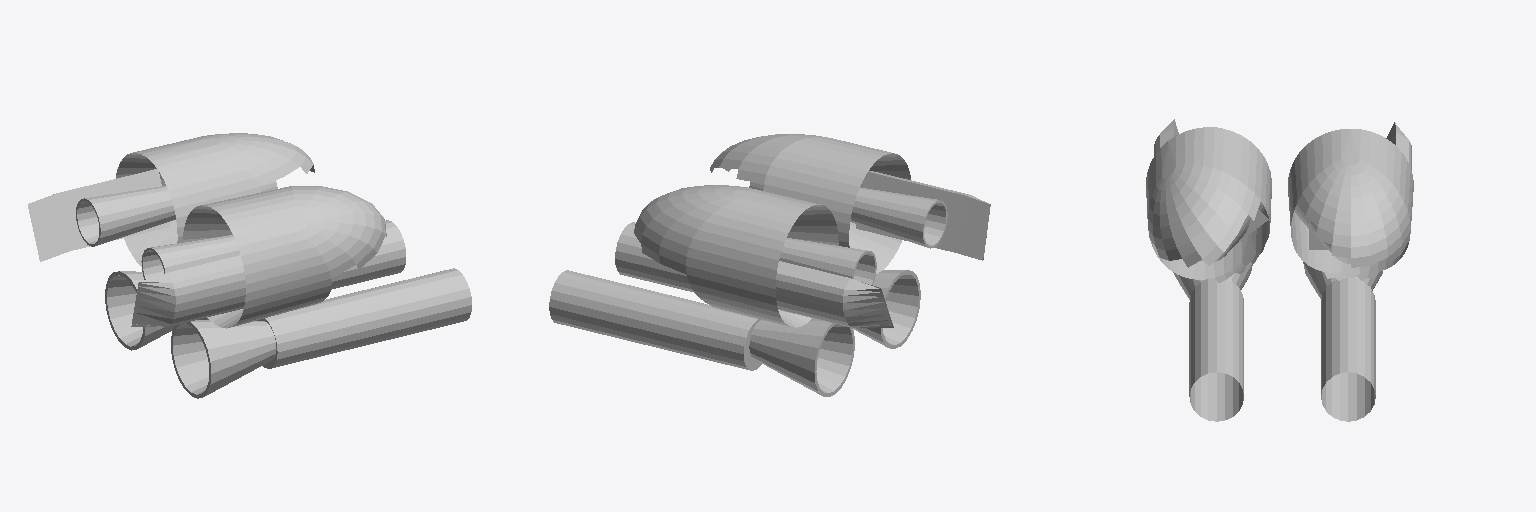
The model's file is Medium_G1Engine.obj.
3 views of the same model, side by side, from view 1: azimuth 30°, elevation 25°; view 2: azimuth 150°, elevation 25°; view 3: azimuth 270°, elevation 25° (orthographic).
Visible parts, largest first — view 1: Main_Engine1, Engine pCylinder13, Main_Engine, Engine, Main_Engine1 pCylinder14, Main_Engine pCylinder14, Main_Engine pPipe1, Engine1, Main_Engine1 pPipe1, Engine1 pCylinder13; view 2: Main_Engine, Engine1 pCylinder13, Main_Engine1, Engine1, Main_Engine pCylinder14, Main_Engine1 pCylinder14, Main_Engine1 pPipe1, Engine, Main_Engine pPipe1, Engine pCylinder13; view 3: Main_Engine1, Main_Engine, Engine1 pCylinder13, Engine pCylinder13, Engine1, Engine.
Part boxes in pixels (bbox=[...]): Main_Engine1: bbox=[183, 186, 386, 328]; Engine pCylinder13: bbox=[257, 268, 471, 368]; Main_Engine: bbox=[116, 133, 314, 266]; Engine: bbox=[171, 320, 276, 398]; Main_Engine1 pCylinder14: bbox=[131, 255, 245, 326]; Main_Engine pCylinder14: bbox=[28, 169, 170, 261]; Main_Engine pPipe1: bbox=[76, 186, 175, 246]; Engine1: bbox=[105, 271, 174, 350]; Main_Engine1 pPipe1: bbox=[141, 235, 240, 279]; Engine1 pCylinder13: bbox=[199, 220, 405, 319]; Main_Engine: bbox=[634, 185, 838, 327]; Engine1 pCylinder13: bbox=[549, 270, 761, 370]; Main_Engine1: bbox=[710, 134, 910, 273]; Engine1: bbox=[749, 318, 854, 396]; Main_Engine pCylinder14: bbox=[776, 261, 893, 327]; Main_Engine1 pCylinder14: bbox=[856, 171, 990, 260]; Main_Engine1 pPipe1: bbox=[850, 187, 947, 248]; Engine: bbox=[853, 270, 920, 348]; Main_Engine pPipe1: bbox=[779, 238, 876, 284]; Engine pCylinder13: bbox=[615, 222, 812, 318]; Main_Engine1: bbox=[1146, 127, 1271, 282]; Main_Engine: bbox=[1288, 129, 1413, 280]; Engine1 pCylinder13: bbox=[1321, 277, 1375, 421]; Engine pCylinder13: bbox=[1189, 278, 1243, 421]; Engine1: bbox=[1303, 262, 1382, 299]; Engine: bbox=[1173, 262, 1251, 299].
Size of the model in its own units: 3.51 by 1.79 by 2.38.